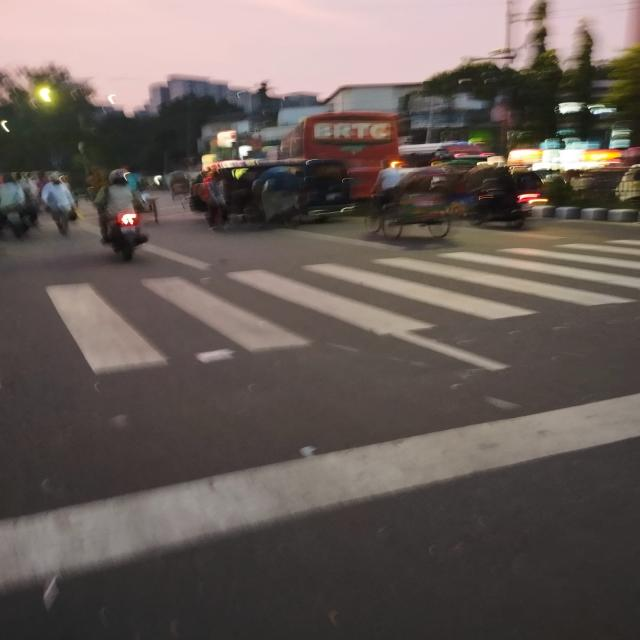person: (41, 172, 76, 236)
